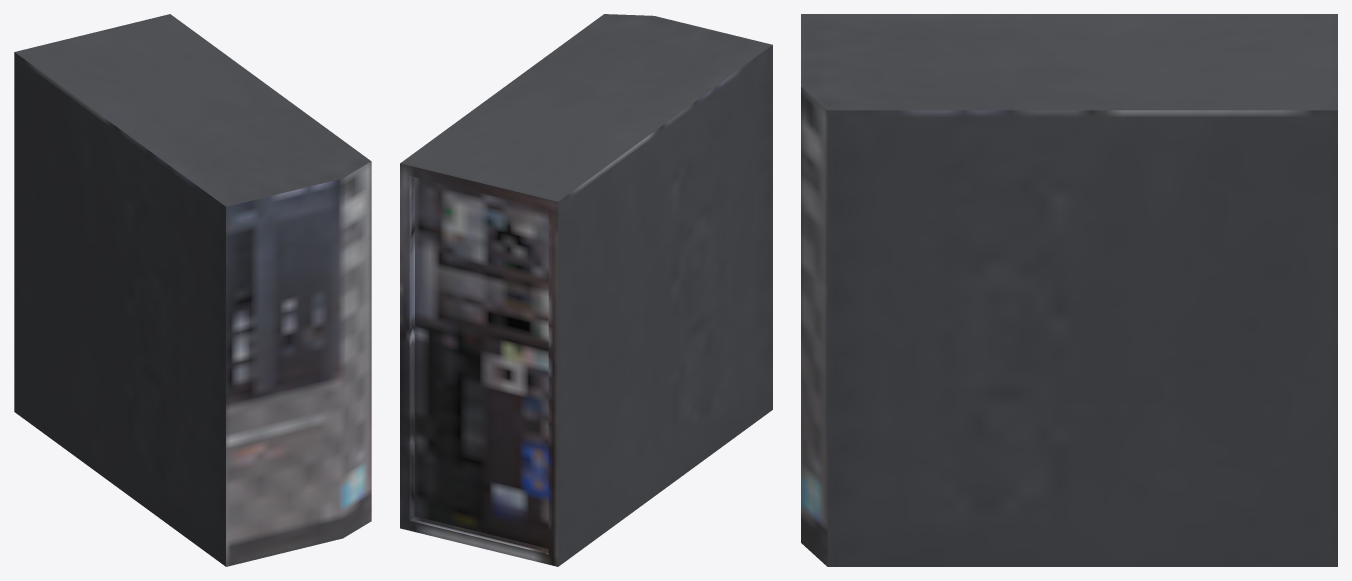
Rendered from Computer02.obj.
3 renders of one model, left to right at view 1: azimuth 30°, elevation 25°; view 2: azimuth 150°, elevation 25°; view 3: azimuth 270°, elevation 25°, orthographic. The views are drawn at different scales.
Visible parts, largest first — view 1: Computer02; view 2: Computer02; view 3: Computer02.
Part boxes in pixels (x1,y1,x2,y2): Computer02: (14, 14, 371, 566); Computer02: (400, 14, 772, 566); Computer02: (801, 14, 1337, 566).
Bounding box in the file's own units: 0.3442 × 0.76 × 0.81.
